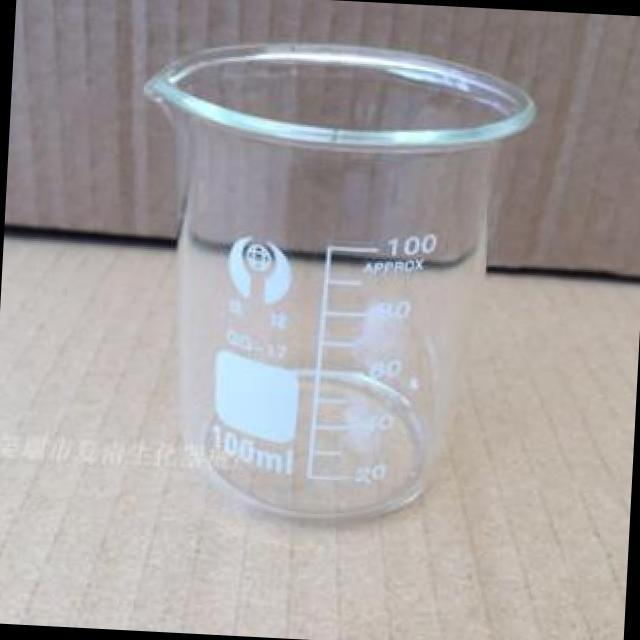Beaker: (143, 23, 537, 524)
